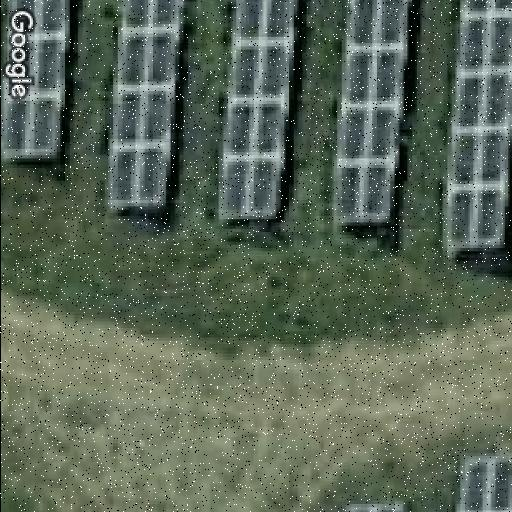solar-panel: (204, 0, 306, 232), (317, 0, 416, 238), (437, 0, 512, 270), (96, 0, 186, 218), (0, 0, 74, 168), (448, 451, 512, 512), (343, 497, 412, 512)
